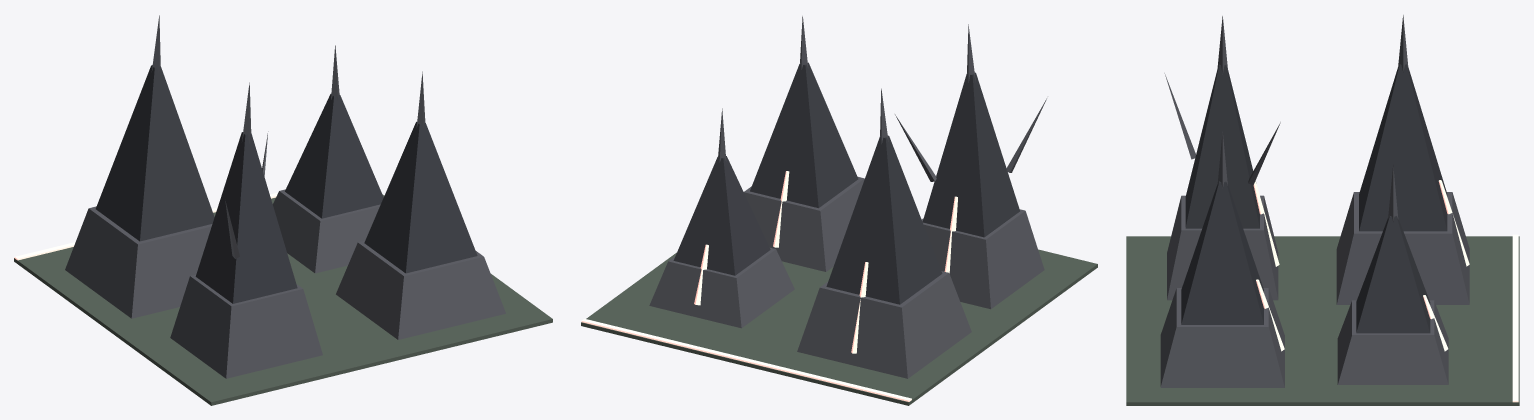
Rendered from zone_low_4.glb.
The picture shows the model from 3 angles, left to right: view 1: azimuth 30°, elevation 25°; view 2: azimuth 150°, elevation 25°; view 3: azimuth 270°, elevation 25°; orthographic projection. The views are drawn at different scales.
Parts seen in each view (by area): view 1: zone_low_4, detail; view 2: zone_low_4, detail; view 3: zone_low_4, detail.
Boxes of the visible parts, <box> form: zone_low_4: <box>14,15,552,405</box>; detail: <box>14,131,277,260</box>; zone_low_4: <box>581,16,1097,405</box>; detail: <box>581,98,1046,401</box>; zone_low_4: <box>1126,15,1519,405</box>; detail: <box>1164,73,1518,402</box>.
Size of the model in its own units: 19.6 by 14.75 by 19.6.
